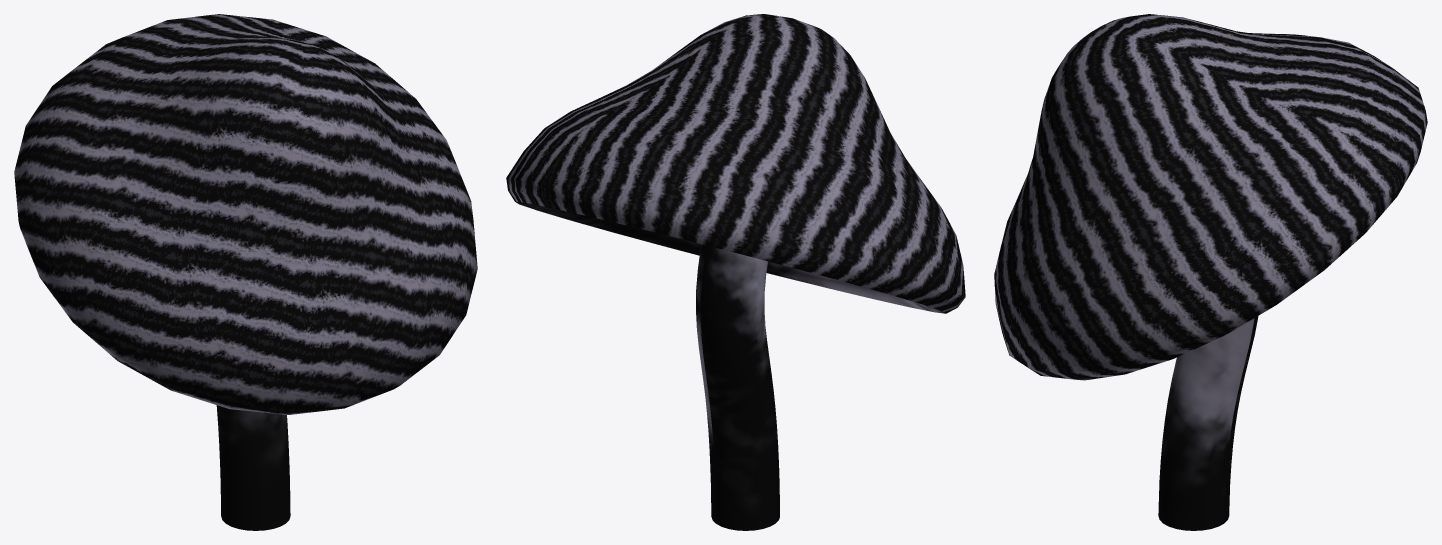
Rendered from Mushroom2.fbx.
The picture shows the model from 3 angles, left to right: view 1: azimuth 30°, elevation 25°; view 2: azimuth 150°, elevation 25°; view 3: azimuth 270°, elevation 25°; orthographic projection. The views are drawn at different scales.
Visible parts, largest first — view 1: Mushroom 2; view 2: Mushroom 2; view 3: Mushroom 2.
Boxes of the visible parts, x1,y1,x2,y2 form: Mushroom 2: (14, 14, 477, 530); Mushroom 2: (506, 14, 965, 530); Mushroom 2: (994, 14, 1427, 530).
Bounding box in the file's own units: 104 × 115 × 92.09.
